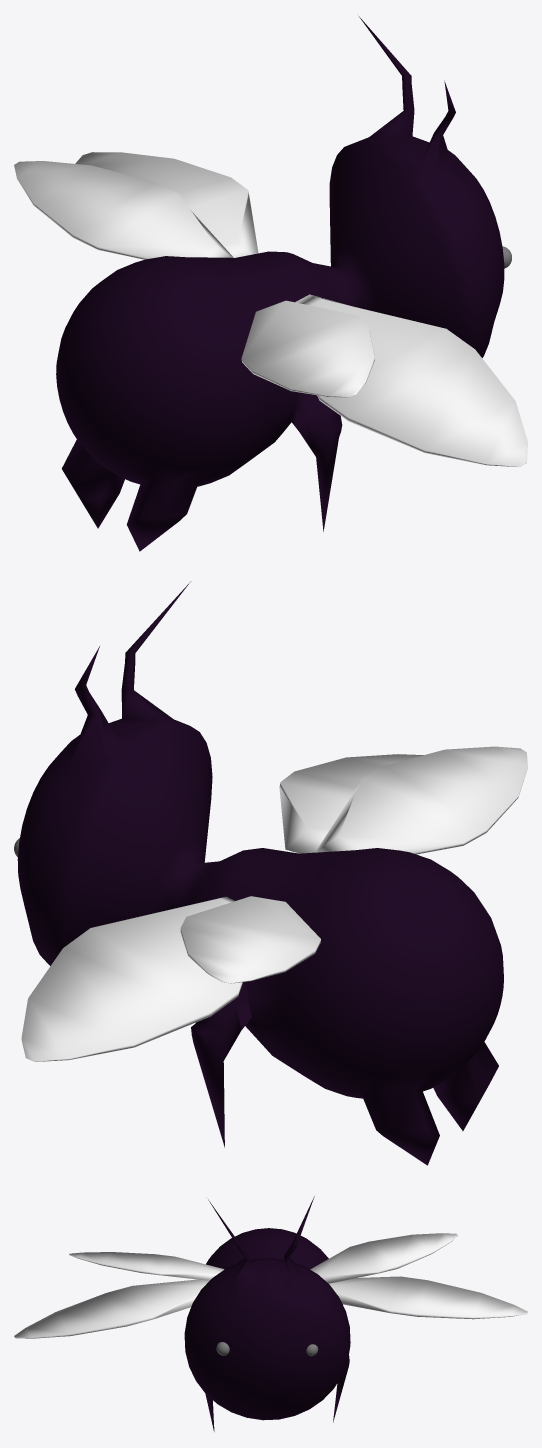
File: monster_mob_true.fbx
3 views of the same model, one above another, from view 1: azimuth 30°, elevation 25°; view 2: azimuth 150°, elevation 25°; view 3: azimuth 270°, elevation 25° (orthographic). The views are drawn at different scales.
Parts seen in each view (by area): view 1: Body, FrontWings, BackWings; view 2: Body, FrontWings, BackWings; view 3: Body, FrontWings, BackWings.
Part boxes in pixels (left/top/right/bottom): Body: left=56, top=16, right=504, bottom=551; FrontWings: left=75, top=152, right=527, bottom=466; BackWings: left=14, top=161, right=374, bottom=397; Body: left=17, top=581, right=503, bottom=1165; FrontWings: left=21, top=754, right=423, bottom=1061; BackWings: left=180, top=746, right=527, bottom=983; Body: left=184, top=1196, right=350, bottom=1431; FrontWings: left=14, top=1276, right=527, bottom=1338; BackWings: left=69, top=1233, right=457, bottom=1283.
Size of the model in its own units: 286 by 286 by 485.
